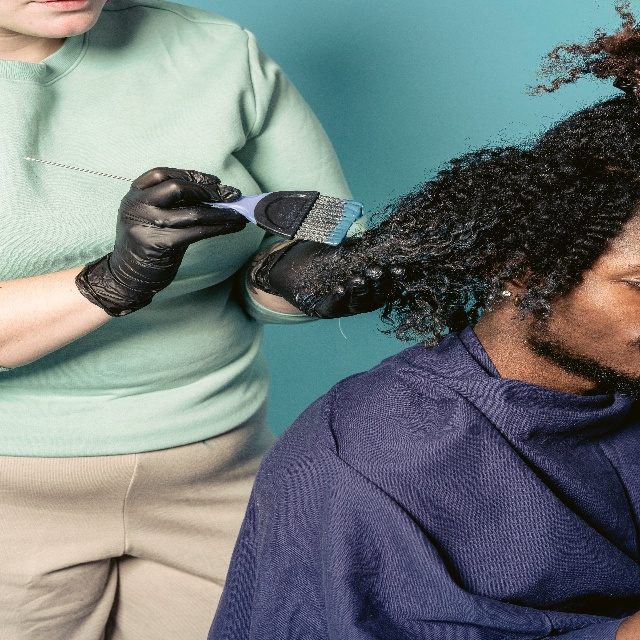Guantes: (74, 161, 248, 317), (250, 245, 400, 318)
